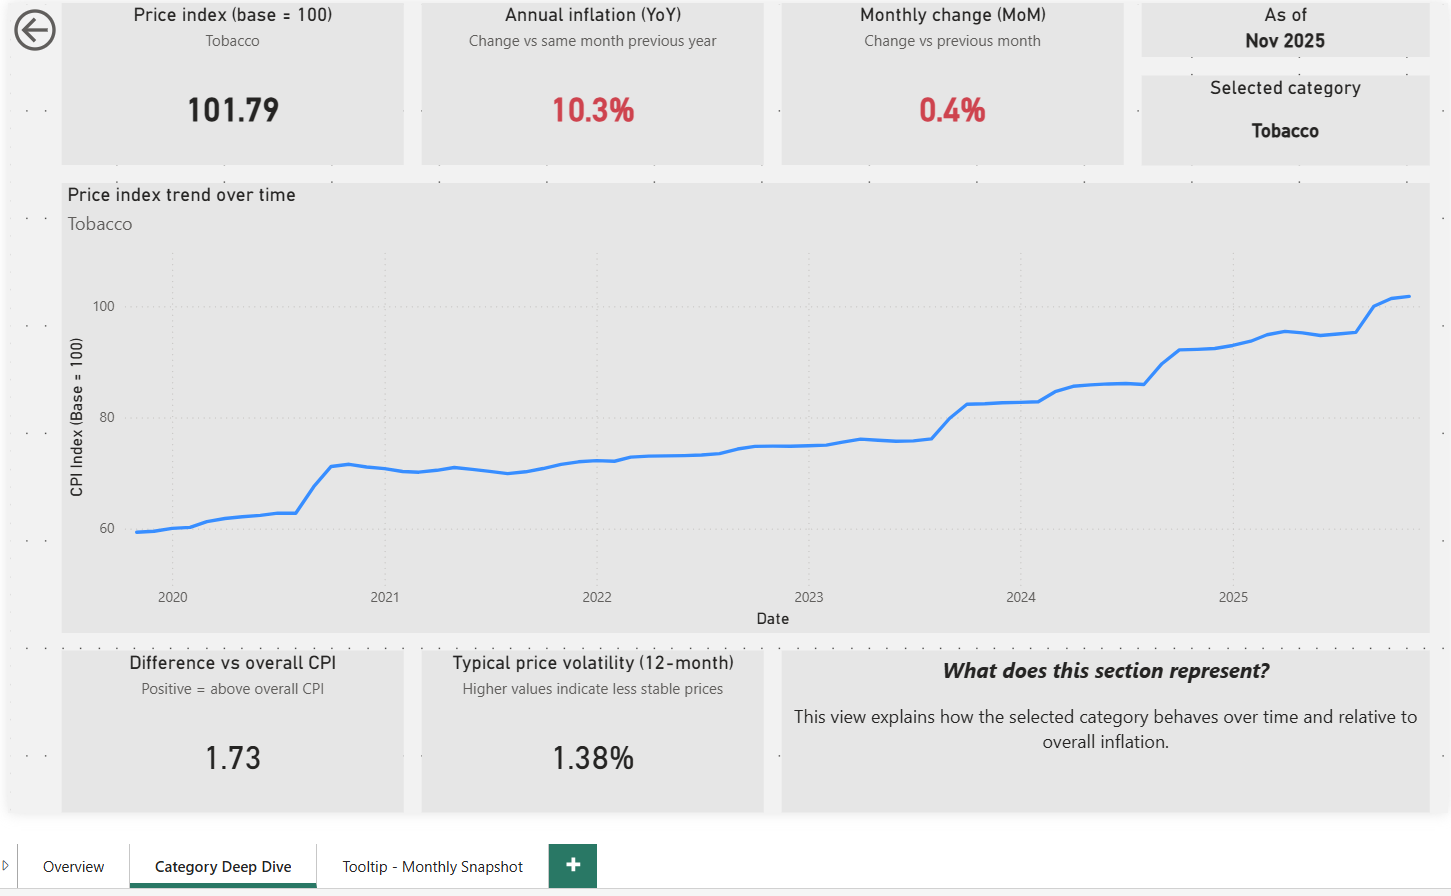

What the dashboard file says about the page in this screenshot:
{"tool":"powerbi","page":{"name":"Category Deep Dive","canvas":[1280,720],"ordinal":1},"visuals":[{"type":"actionButton","box":[0,0,48,48],"z":0},{"type":"card","title":"Price index (base = 100)","fields":{"Values":["Measure.Selected Category Index (Latest)"]},"box":[48,0,304,144],"z":1000},{"type":"card","title":"Monthly change (MoM)","fields":{"Values":["Measure.Selected Category MoM Display"]},"box":[688,0,304,144],"z":2000},{"type":"card","title":"Annual inflation (YoY)","fields":{"Values":["Measure.Selected Category YoY Display"]},"box":[368,0,304,144],"z":3000},{"type":"lineChart","title":"Price index trend over time","fields":{"Category":["Dim_Date.Date"],"Y":["Measure.Selected Category Index (Latest)"]},"box":[48,160,1216,400],"z":4000},{"type":"card","title":"Difference vs overall CPI","fields":{"Values":["Measure.Index Gap vs All Groups (Latest)"]},"box":[48,576,304,144],"z":5000},{"type":"card","title":"As of","fields":{"Values":["Measure.Latest Month Label"]},"box":[1008,0,256,48],"z":6000},{"type":"card","title":"Typical price volatility (12-month)","fields":{"Values":["Measure.Category MoM Volatility (12M)"]},"box":[368,576,304,144],"z":7000},{"type":"textbox","box":[688,576,576,144],"z":8000},{"type":"card","title":"Selected category","fields":{"Values":["Min(Dim_Category.CPI_Category)"]},"box":[1008,64,256,80],"z":9000}]}

Visuals, with their boxes on the page's 1280x720 design canvas (x1, y1, x2, y2). These are canvas units, not pixel positions in the 1451x896 screenshot, which may show the page scaled, cropped or inside an application window:
actionButton: [0,0,48,48]
"Price index (base = 100)" card: [48,0,352,144]
"Monthly change (MoM)" card: [688,0,992,144]
"Annual inflation (YoY)" card: [368,0,672,144]
"Price index trend over time" lineChart: [48,160,1264,560]
"Difference vs overall CPI" card: [48,576,352,720]
"As of" card: [1008,0,1264,48]
"Typical price volatility (12-month)" card: [368,576,672,720]
textbox: [688,576,1264,720]
"Selected category" card: [1008,64,1264,144]
